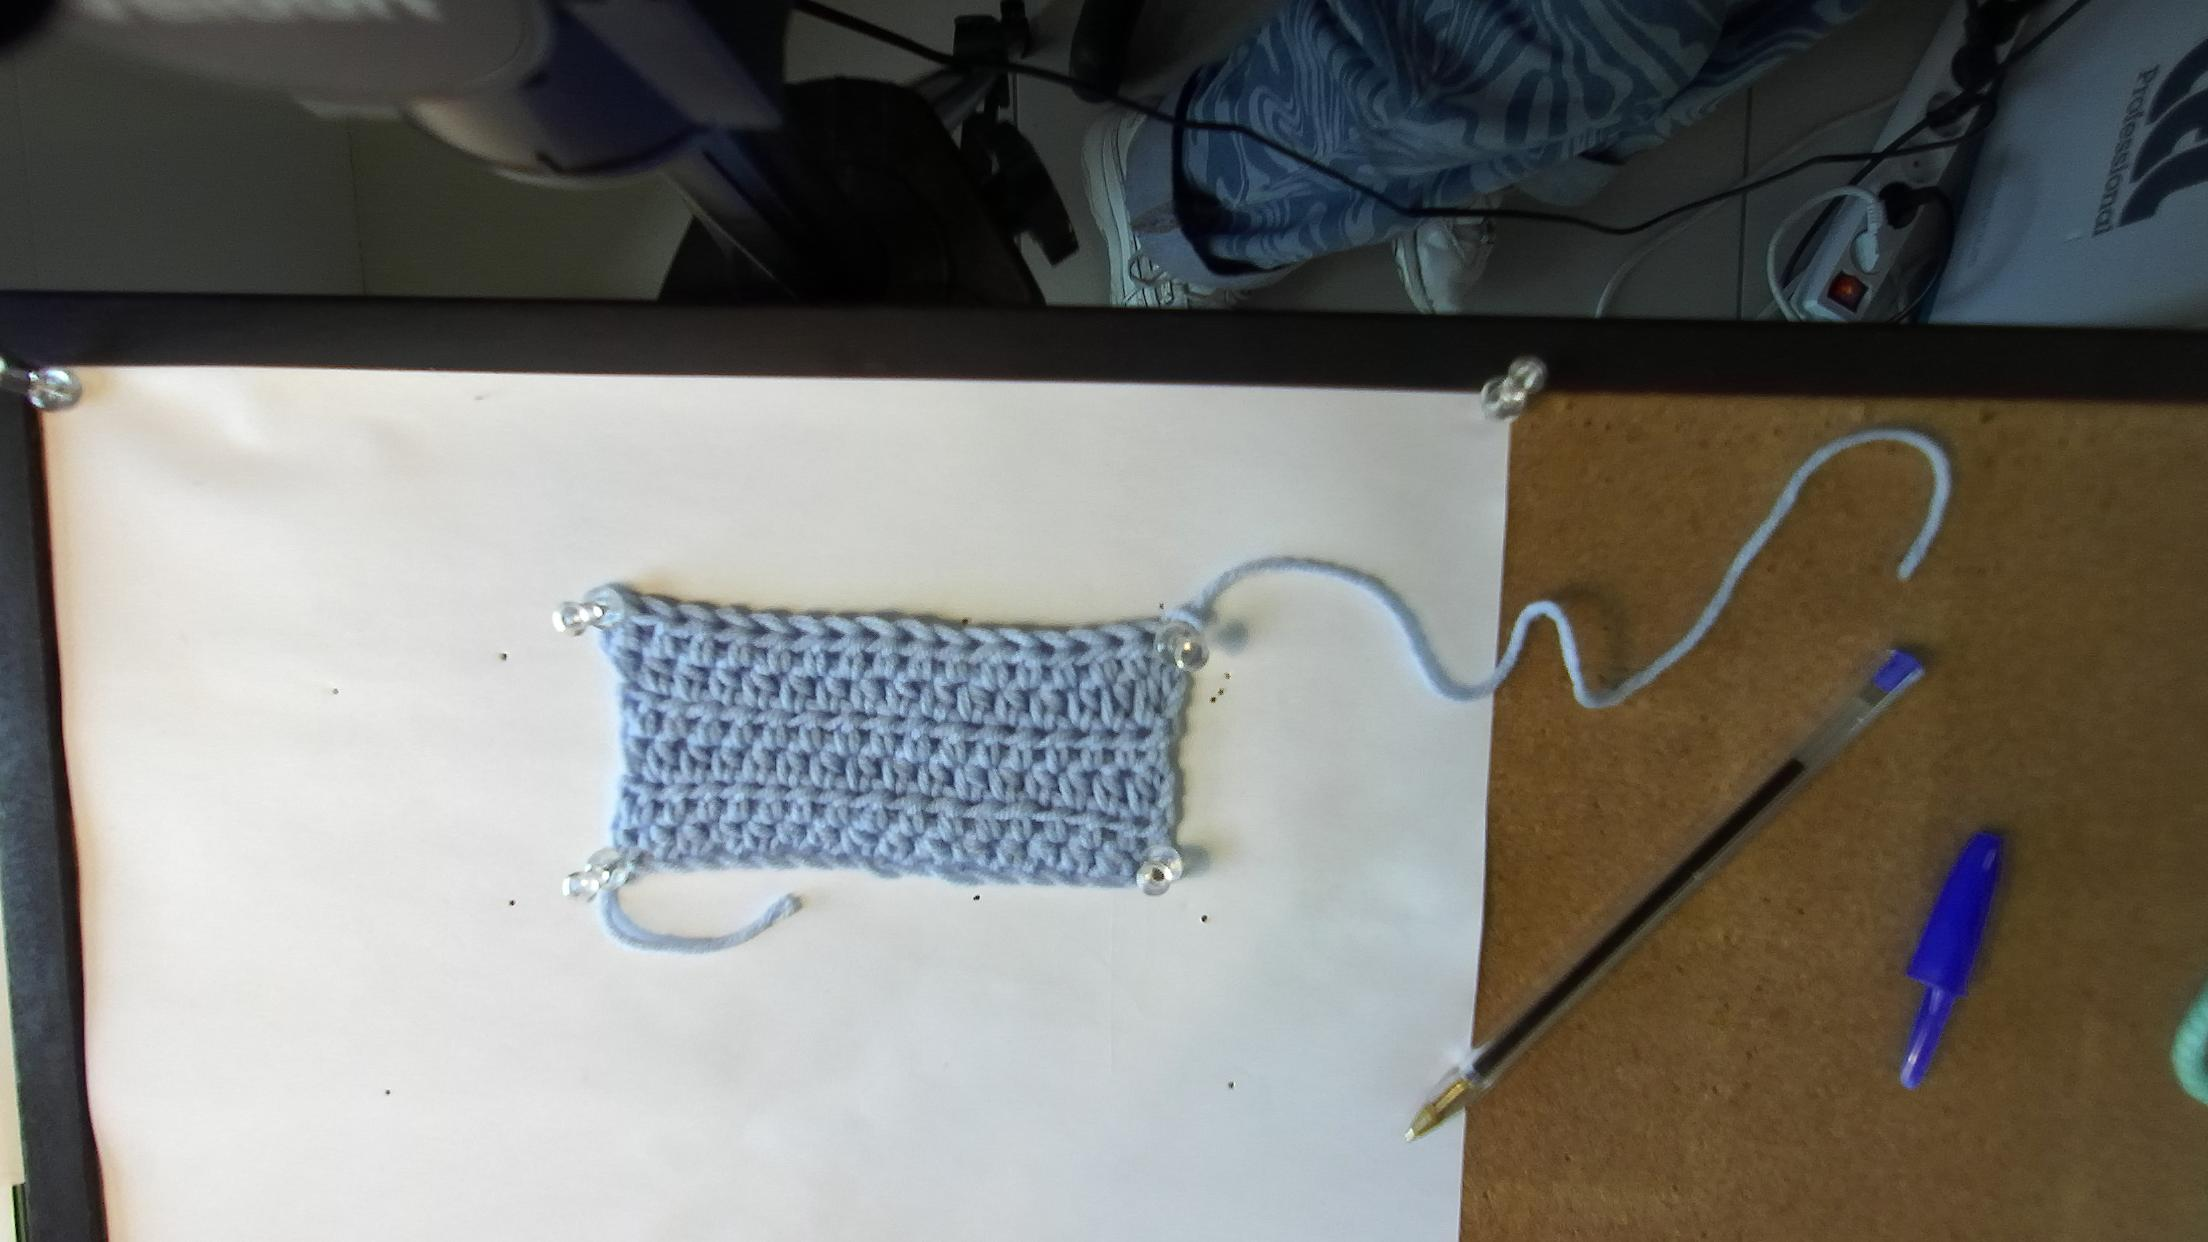hole: (817, 625, 846, 640), (708, 616, 734, 631), (748, 622, 773, 637), (1066, 640, 1092, 655), (931, 632, 949, 651), (784, 626, 807, 640), (857, 626, 880, 640), (896, 629, 916, 645), (631, 604, 655, 616), (670, 611, 692, 625), (1039, 641, 1055, 657), (966, 637, 984, 651), (1001, 640, 1021, 652), (1140, 632, 1156, 648), (1107, 635, 1124, 648)
swatch: (560, 582, 1210, 898)
